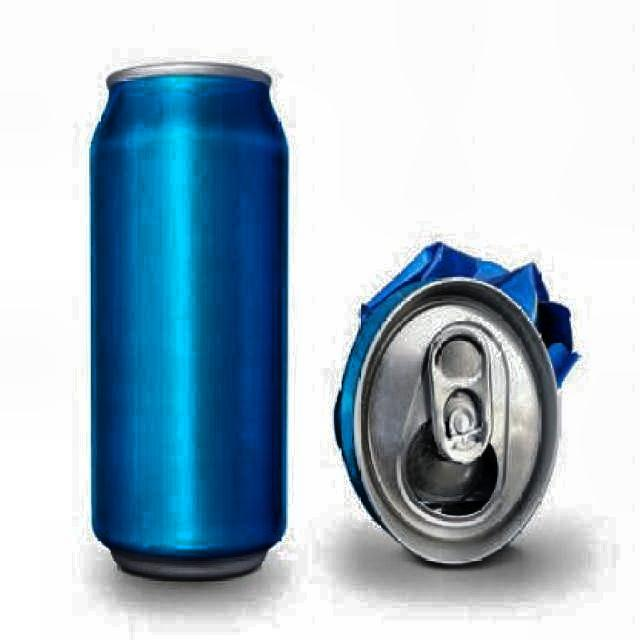can: (81, 51, 297, 590), (329, 217, 595, 572)
